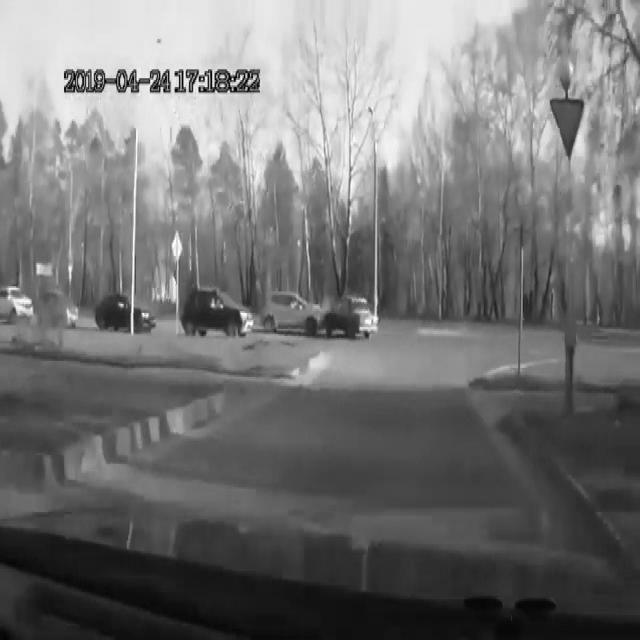moderate: (259, 282, 380, 344)
